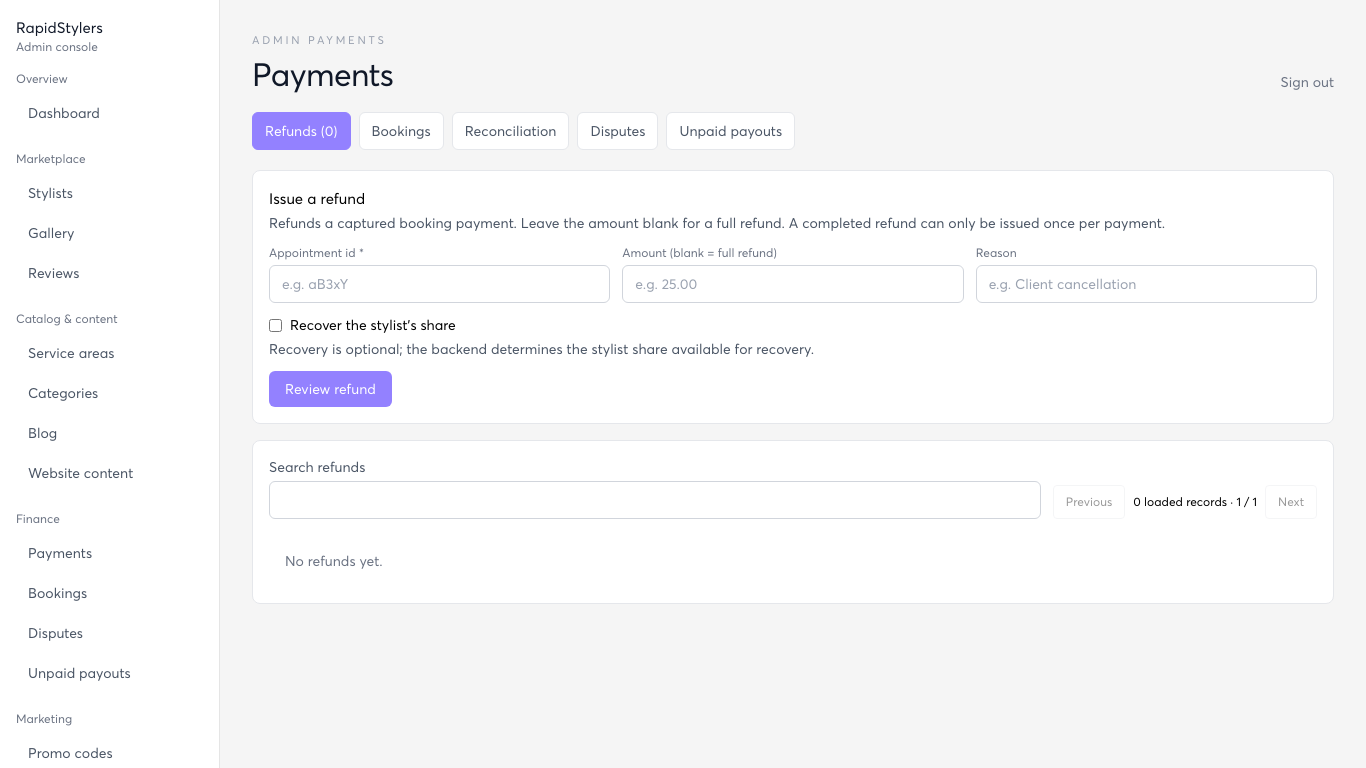
shows a full refund with the refundable amount from the payment
The width and height of the screenshot is (1366, 768).
Expected: the text "No refunds yet." is shown, [285,552,382,569]
Step 1. Type "appt-42" into the field labelled "Appointment id *" → (440, 284), box [269,265,610,303]
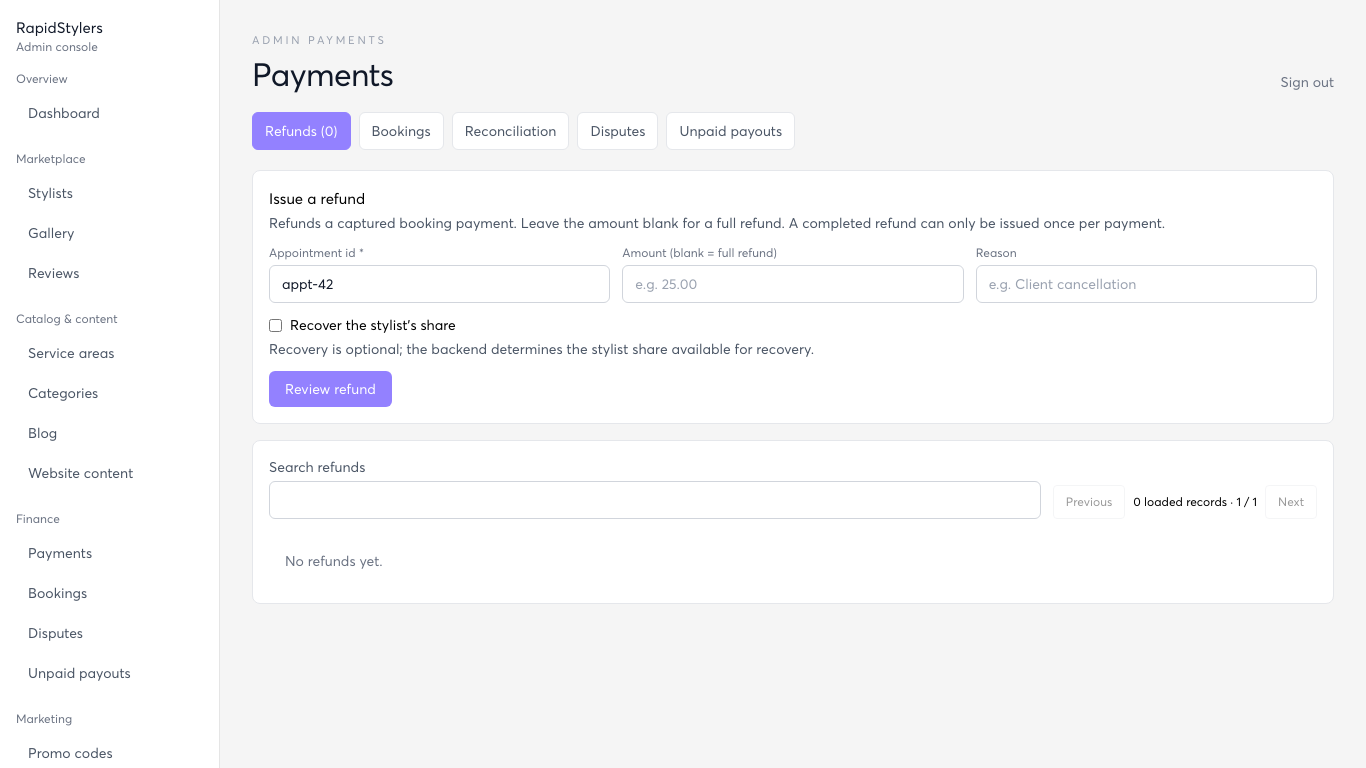
Step 2. Click the button "Review refund" → click(330, 389), box [269,371,392,407]
(page scrolled)
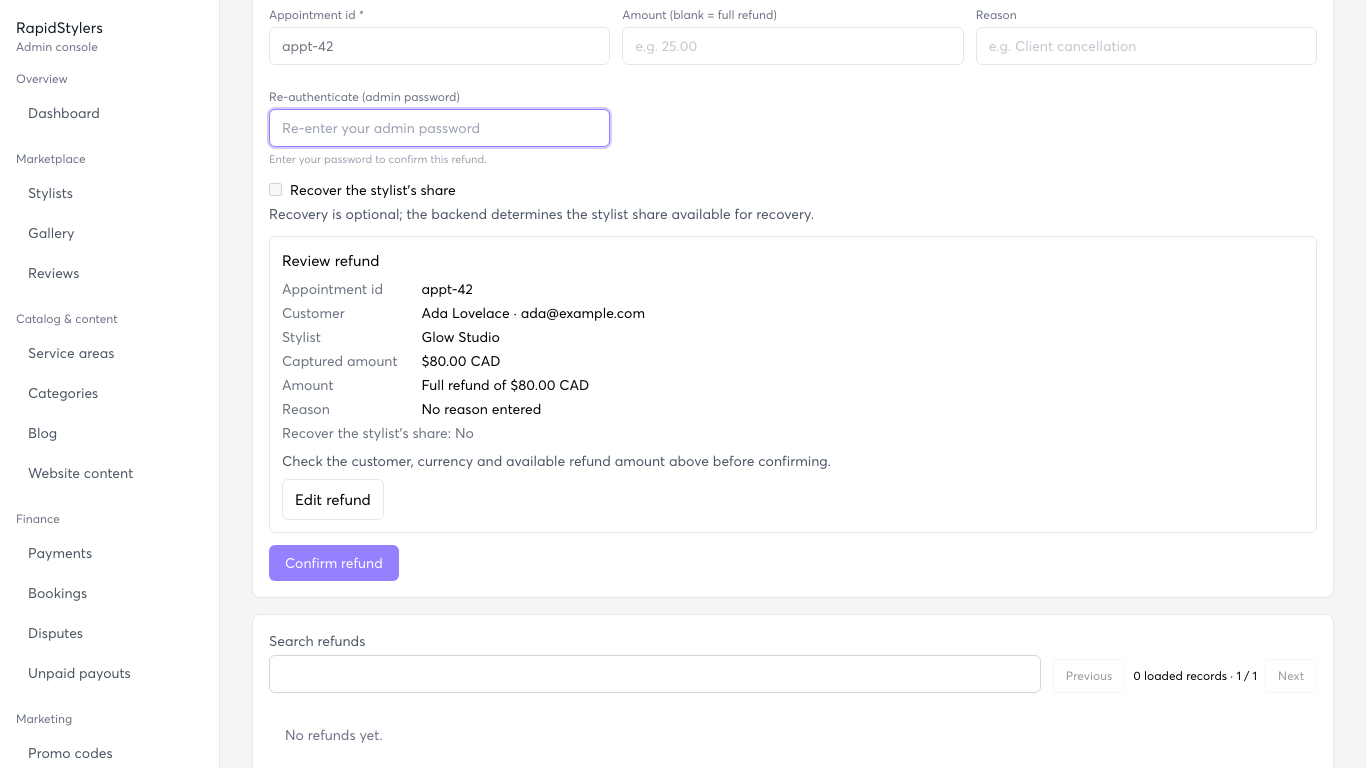
Now the element "Review refund" shows "Full refund of $80.00 CAD", box [422,376,589,393]
